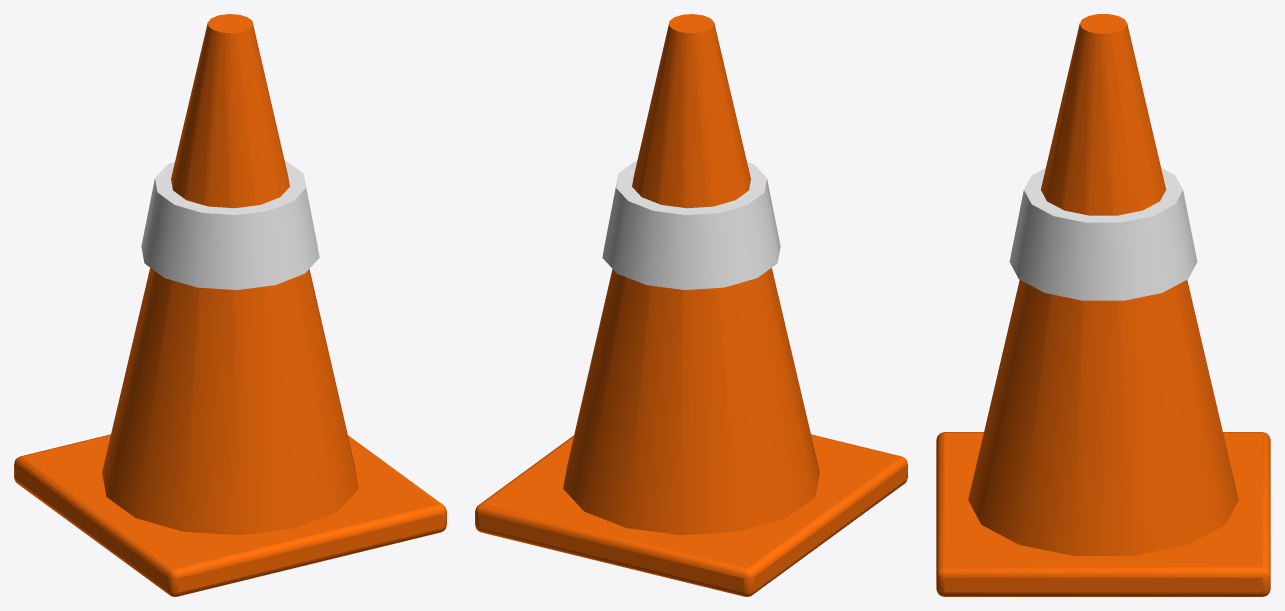
The picture shows the model from 3 angles, left to right: view 1: azimuth 30°, elevation 25°; view 2: azimuth 150°, elevation 25°; view 3: azimuth 270°, elevation 25°; orthographic projection. The views are drawn at different scales.
Visible parts, largest first — view 1: cone; view 2: cone; view 3: cone.
Part boxes in pixels (box(x1,y1,x2,y2)): cone: box(14, 14, 446, 596); cone: box(475, 14, 907, 596); cone: box(936, 14, 1270, 596).
Bounding box in the file's own units: 0.42 × 0.7 × 0.42.
